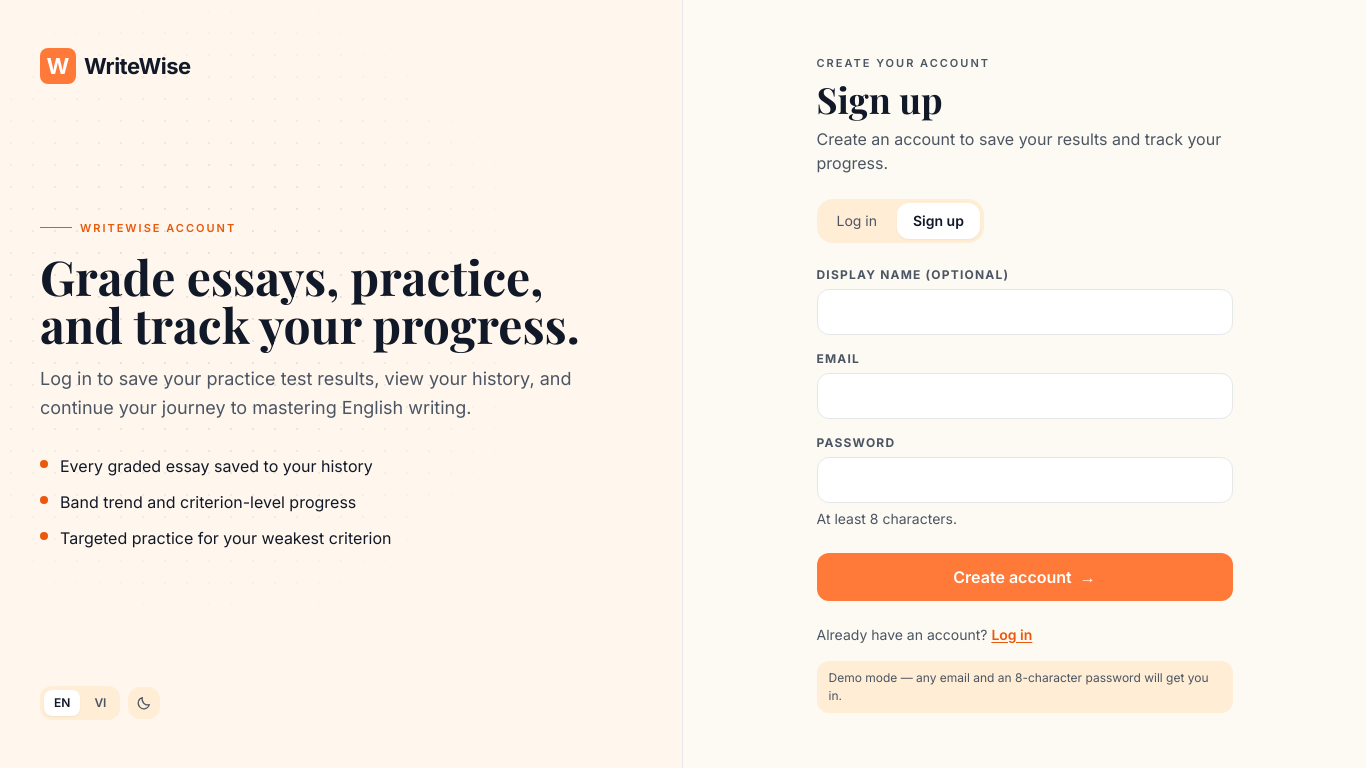
AuthScreen › requires a password long enough to be accepted, before submitting
In the field labelled "Email": (1024, 396) x1=816 y1=373 x2=1232 y2=419, type "learner@example.com"
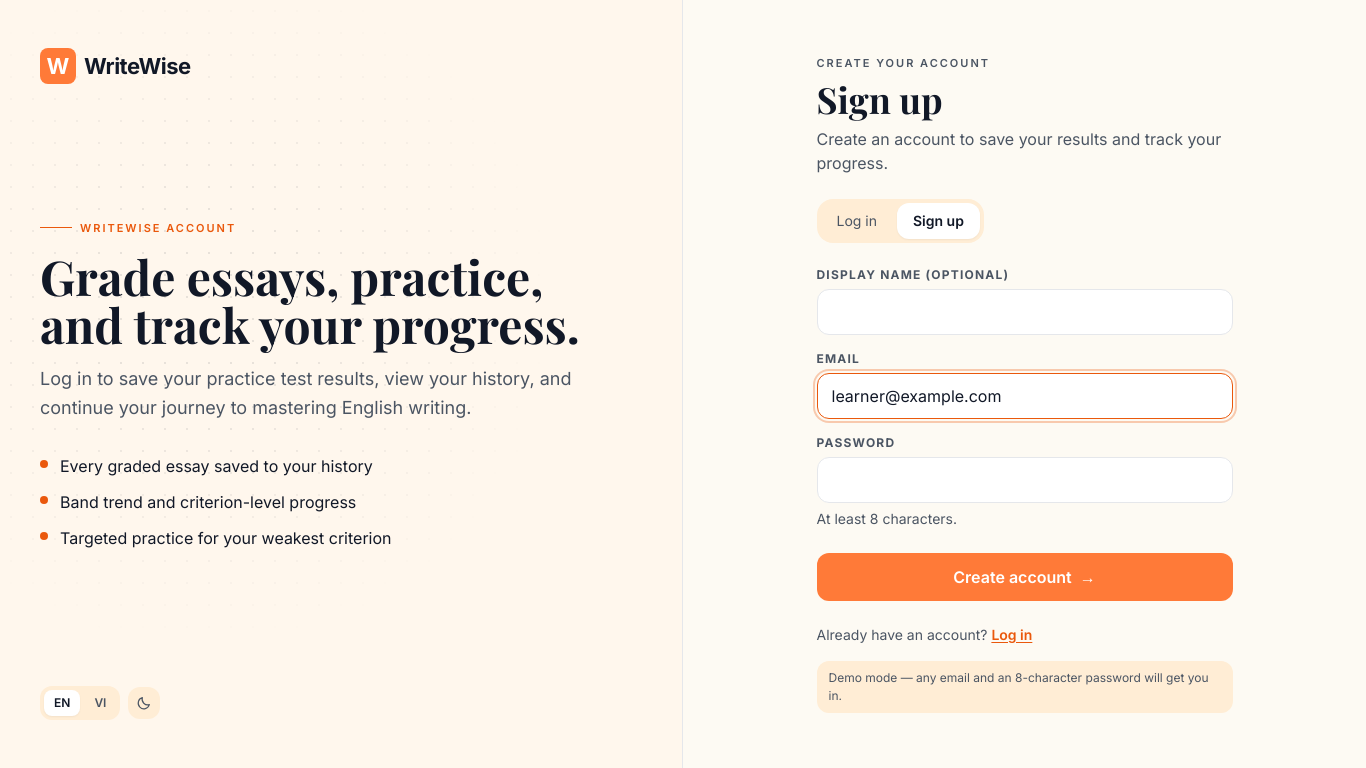
In the password field labelled "Password": (1024, 480) x1=816 y1=457 x2=1232 y2=503, type "short"
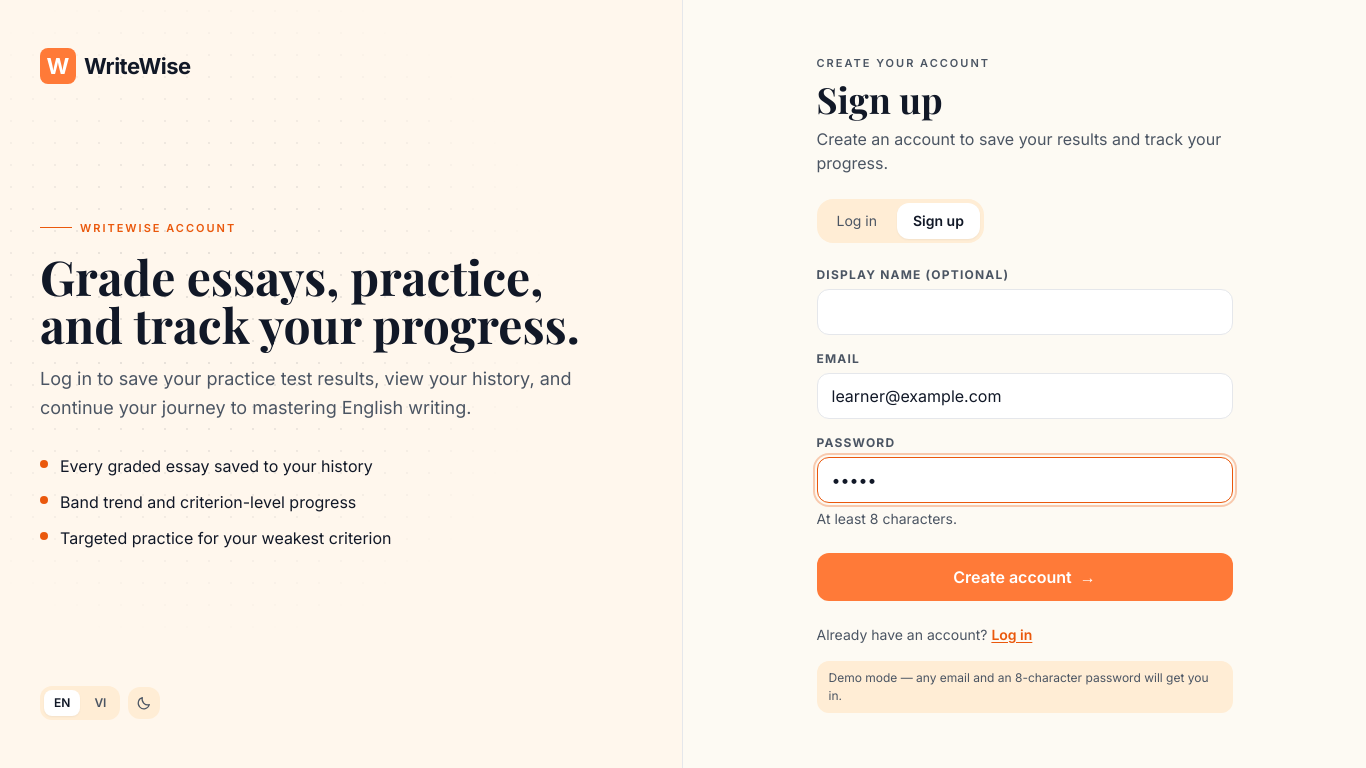
Click the button "Create account →": (1024, 577) x1=816 y1=553 x2=1232 y2=601
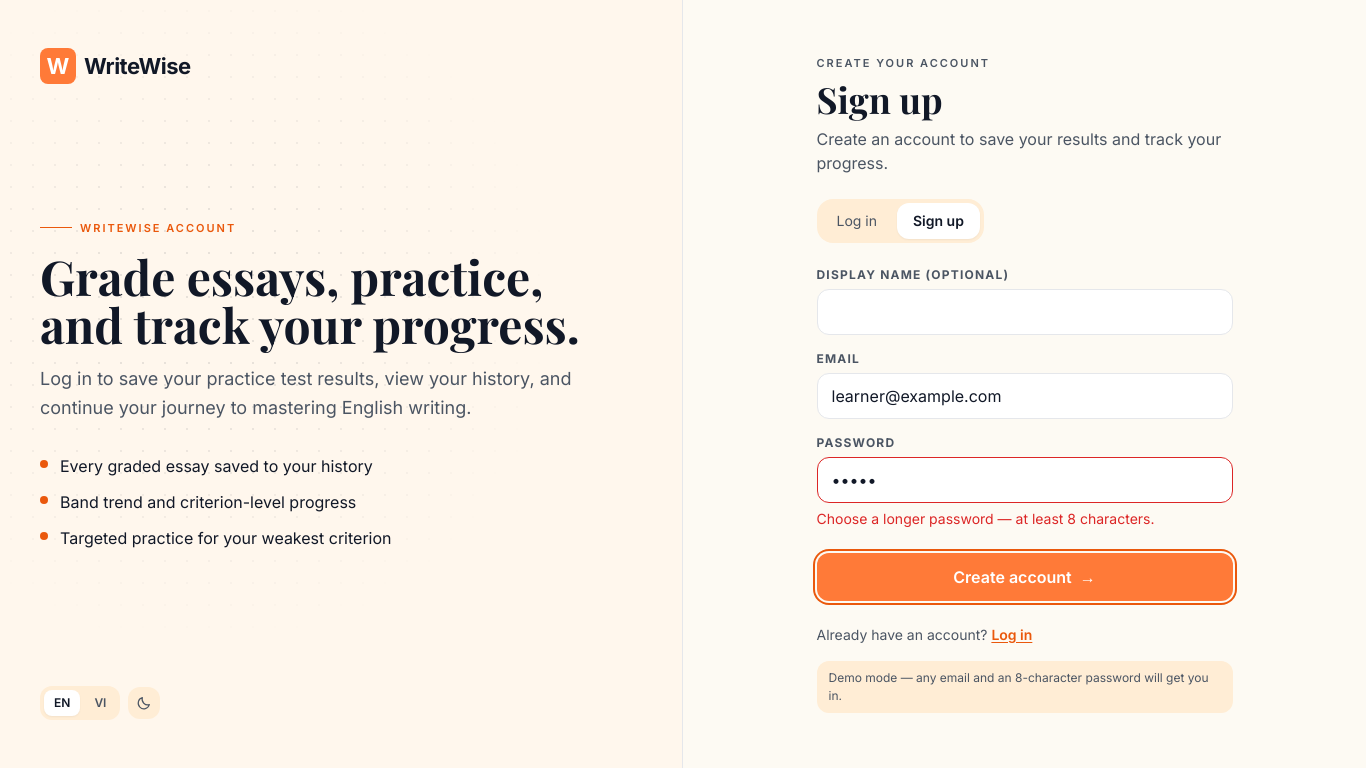
Now the text "Choose a longer password — at least 8 characters." is shown, box x1=816 y1=510 x2=1154 y2=527
